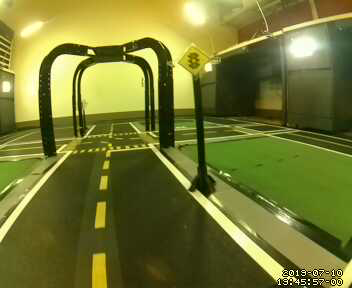Traffic light sign: (178, 46, 210, 74)
